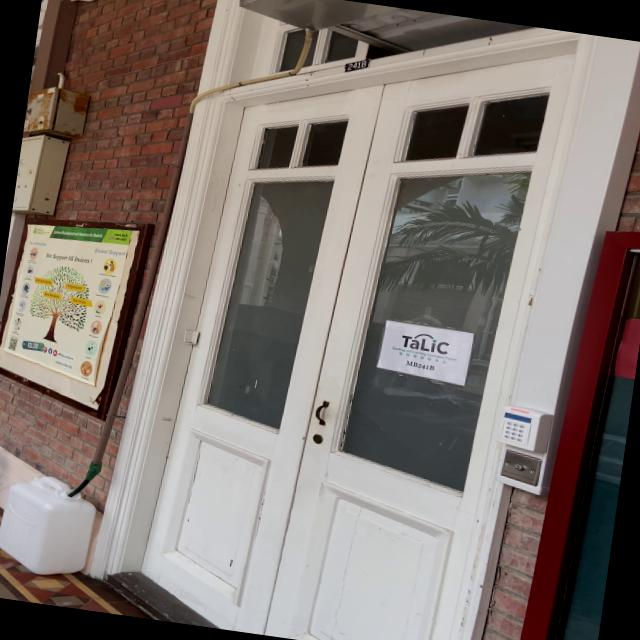room241b: (340, 57, 372, 77)
